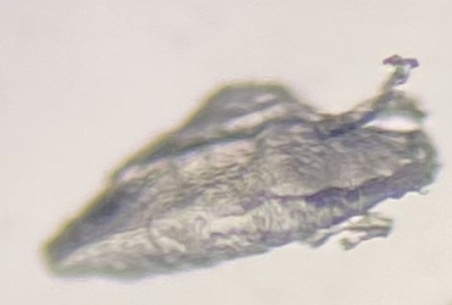microplastic: (40, 55, 440, 281)
